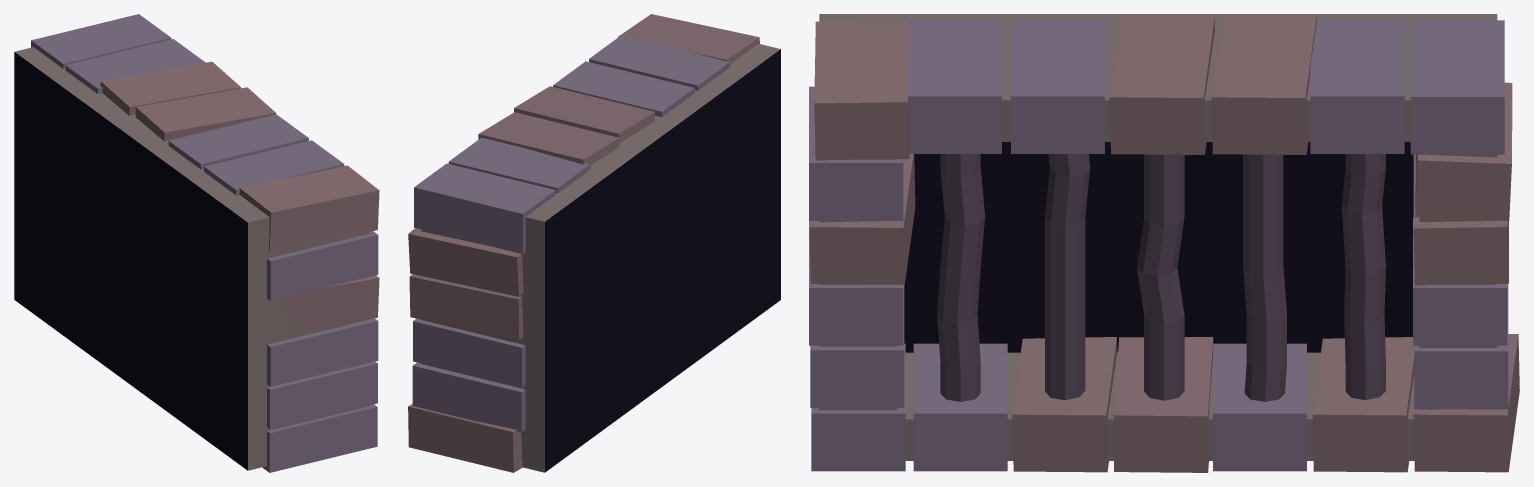
Rendered from sewergate.fbx.
3 views of the same model, side by side, from view 1: azimuth 30°, elevation 25°; view 2: azimuth 150°, elevation 25°; view 3: azimuth 270°, elevation 25° (orthographic). The views are drawn at different scales.
Visible parts, largest first — view 1: Cube.010; view 2: Cube.010; view 3: Cube.010.
Part boxes in pixels (x1,y1,x2,y2): Cube.010: (14,14,379,472); Cube.010: (408,14,780,472); Cube.010: (809,14,1519,472).
Size of the model in its own units: 410 by 782 by 1319.
